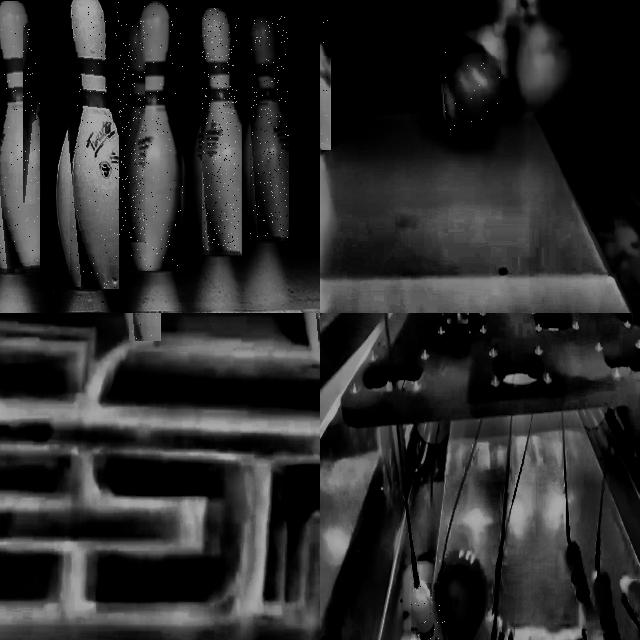bowling-ball: (444, 42, 500, 130)
bowling-pins: (128, 2, 183, 270), (70, 0, 119, 288), (0, 2, 40, 270), (202, 9, 240, 253), (250, 16, 289, 239), (119, 21, 145, 242), (23, 27, 33, 204), (411, 583, 437, 640), (320, 0, 328, 148)
